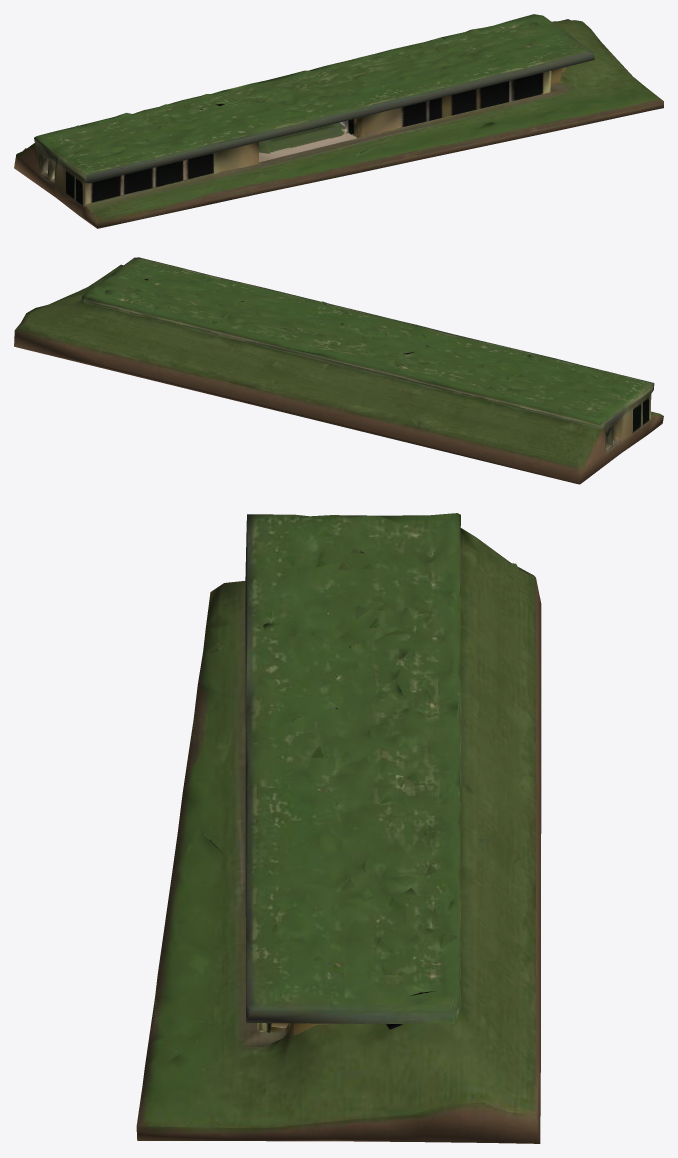
The model's file is maggie_fieldhouse.glb.
3 renders of one model, top to bottom at view 1: azimuth 30°, elevation 25°; view 2: azimuth 150°, elevation 25°; view 3: azimuth 270°, elevation 25°, orthographic. The views are drawn at different scales.
Parts seen in each view (by area): view 1: maggie_fieldhouse; view 2: maggie_fieldhouse; view 3: maggie_fieldhouse.
Part boxes in pixels (box(x1,y1,x2,y2)): maggie_fieldhouse: box(14, 14, 663, 228); maggie_fieldhouse: box(14, 257, 663, 484); maggie_fieldhouse: box(136, 513, 541, 1143).
Size of the model in its own units: 57 by 5 by 18.
Materials: 1 (1 with a texture image).
